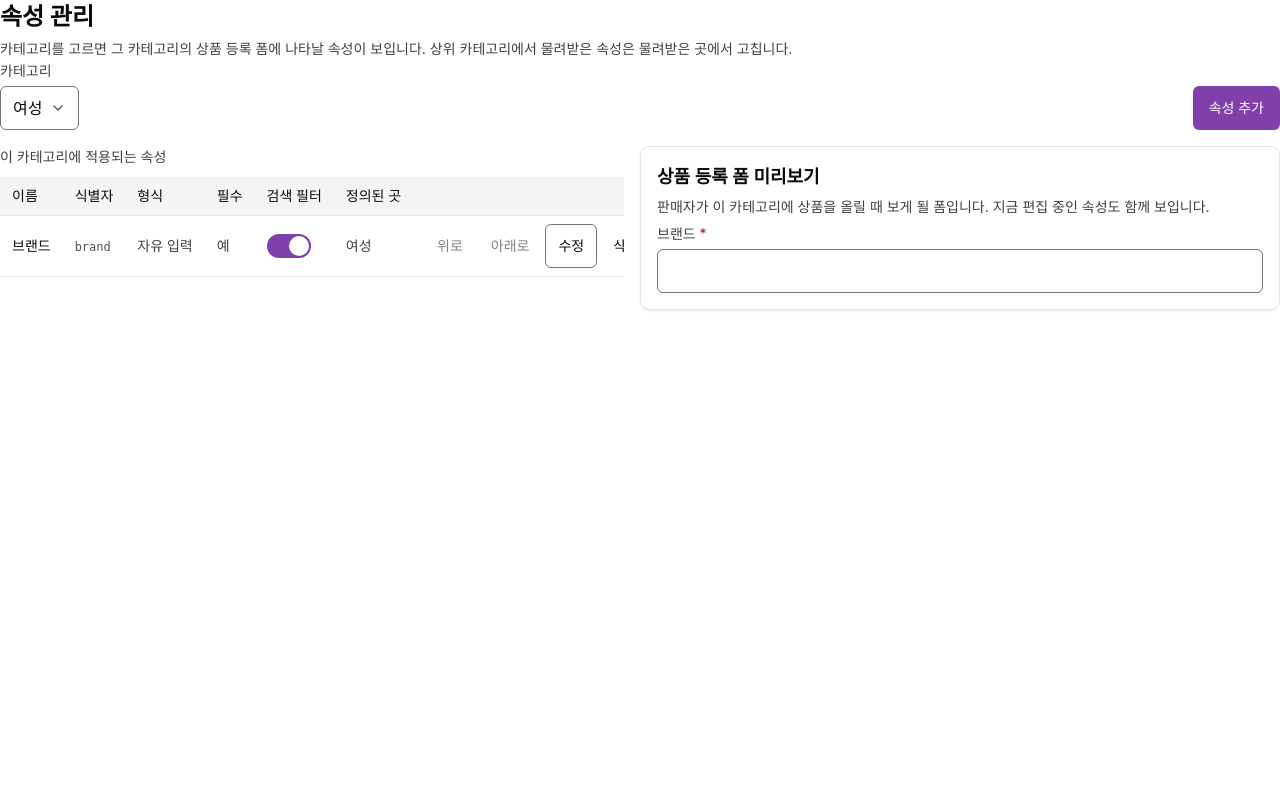
Test: somebody else saved first › opens the comparison rather than overwriting silently
Check: the table "이 카테고리에 적용되는 속성" is shown, box [0, 146, 624, 277]
Click the button "수정".
click(571, 246)  # box [546, 224, 597, 268]
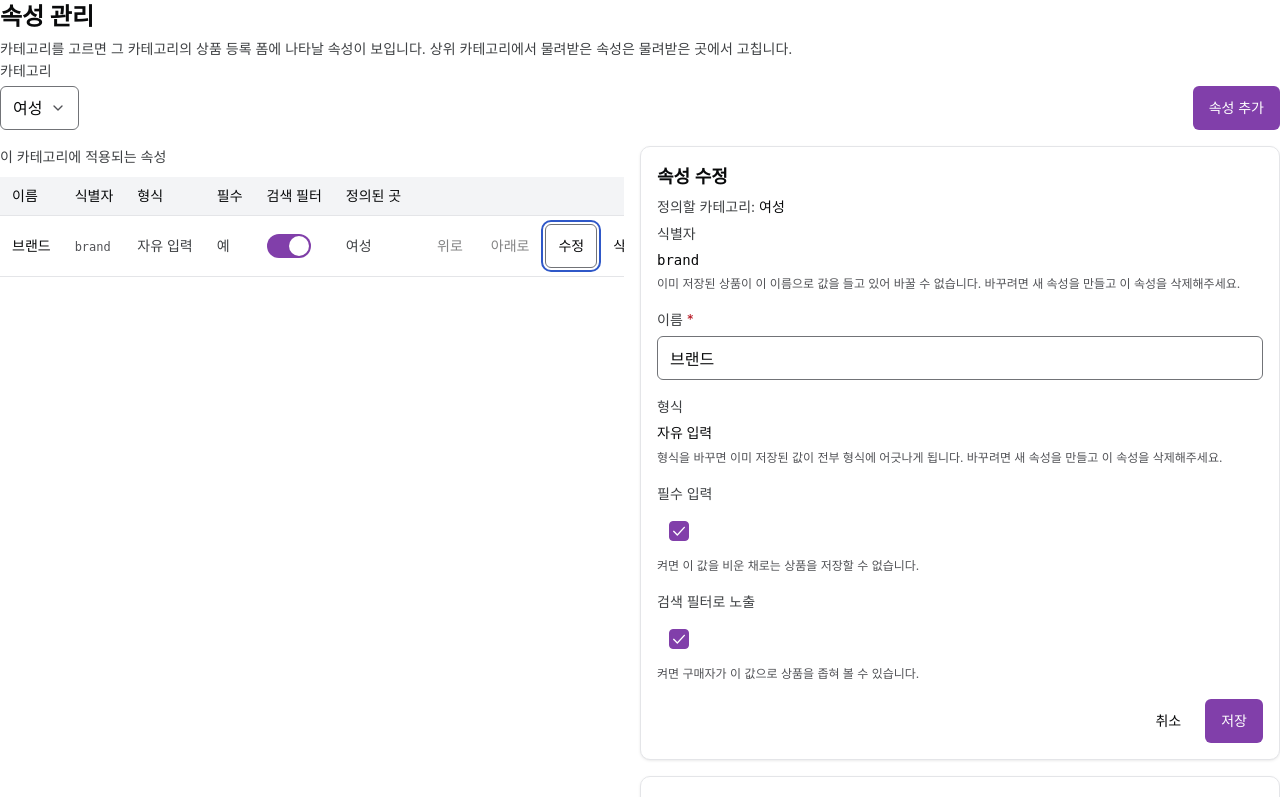
Check: the form is shown, box [657, 223, 1263, 743]
Replace the text in the field labelled "이름" with "내가 쓴 이름" at (960, 358), box [657, 336, 1263, 380]
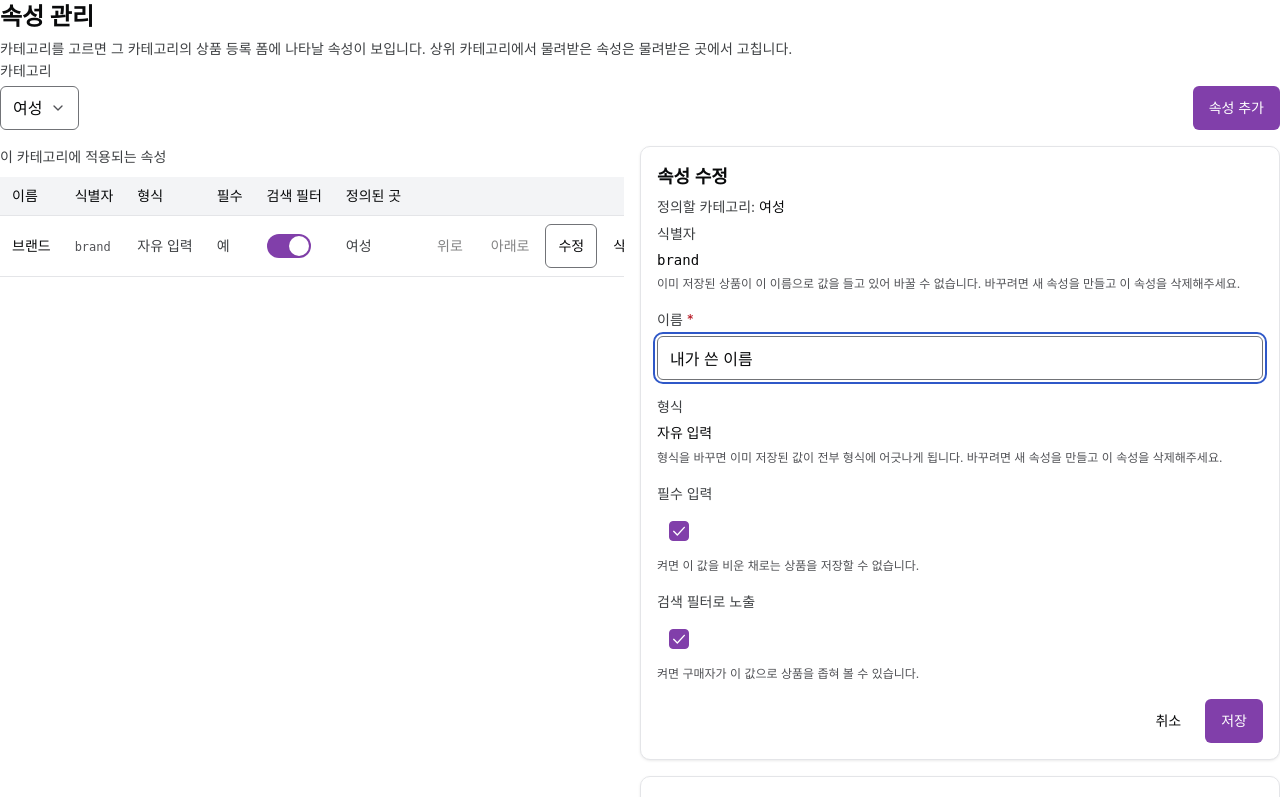
Click the button "저장".
click(1234, 721)  # box [1205, 699, 1263, 743]
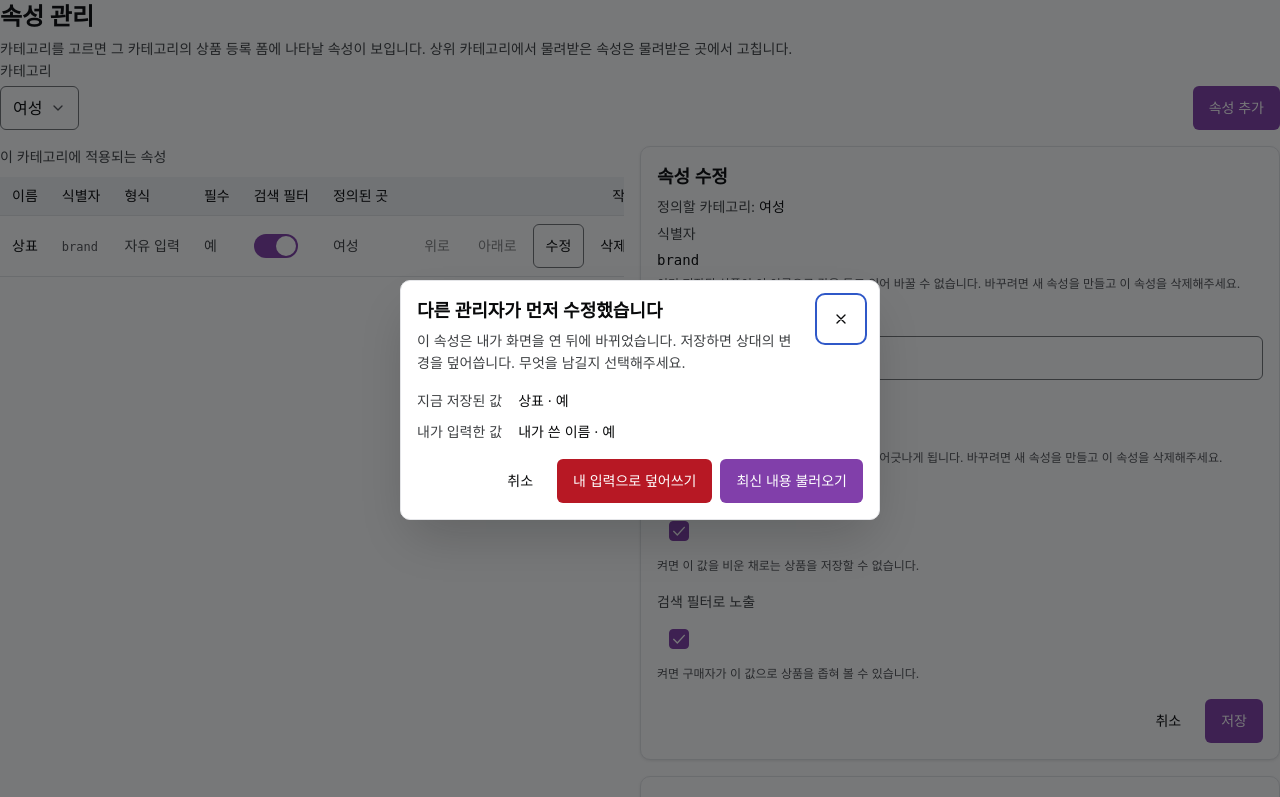
Check: the text "상표 · 예" is shown, box [518, 392, 569, 409]
Check: the text "내가 쓴 이름 · 예" is shown, box [518, 423, 615, 440]
